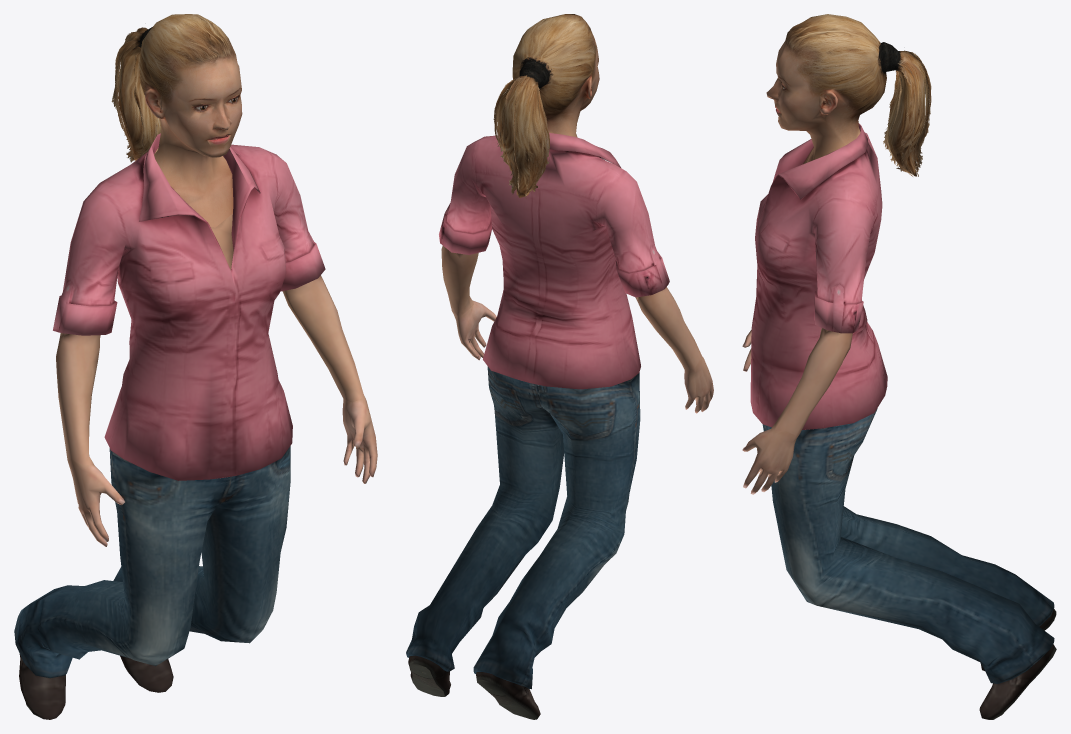
File: rocketbox-f.glb
The picture shows the model from 3 angles, left to right: view 1: azimuth 30°, elevation 25°; view 2: azimuth 150°, elevation 25°; view 3: azimuth 270°, elevation 25°; orthographic projection. The views are drawn at different scales.
Visible parts, largest first — view 1: rocketbox-f-walking; view 2: rocketbox-f-walking; view 3: rocketbox-f-walking.
Boxes of the visible parts, bbox=[...] form: rocketbox-f-walking: bbox=[14, 14, 377, 719]; rocketbox-f-walking: bbox=[406, 14, 713, 719]; rocketbox-f-walking: bbox=[742, 14, 1056, 719].
Size of the model in its own units: 0.5703 by 1.41 by 0.5952.
1 material, 1 textured.
